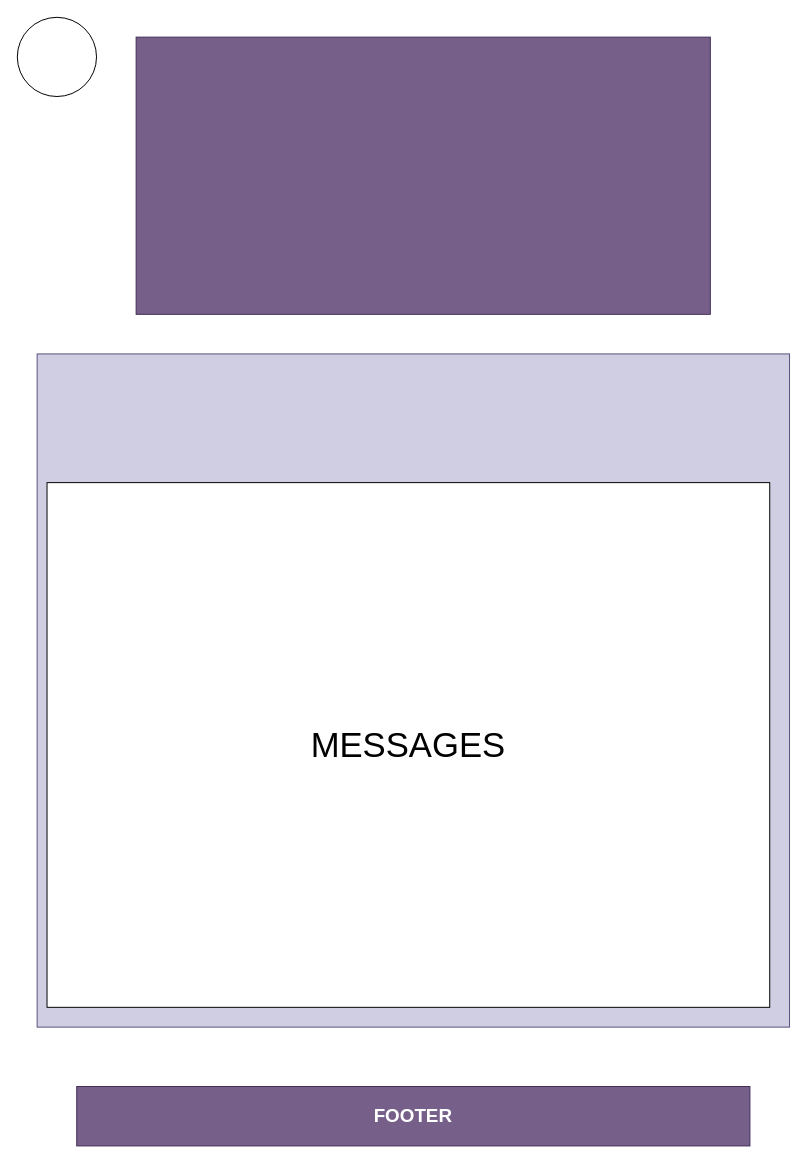
The diagram is 807 pixels wide and 1163 high, and some of its shapes have lost their labels. Each missing label, with the centre of its shape:
"ChatBot by DevFoxie" belongs at [422,175].
"LOGO" belongs at [56,56].
